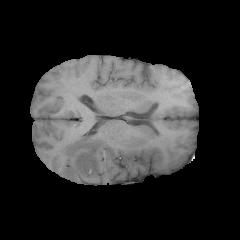glioma: (59, 134, 111, 180)
